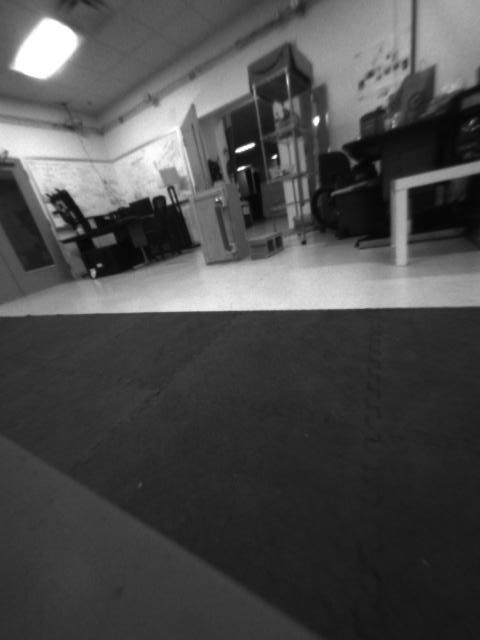coffee_pot: (450, 86, 480, 159)
